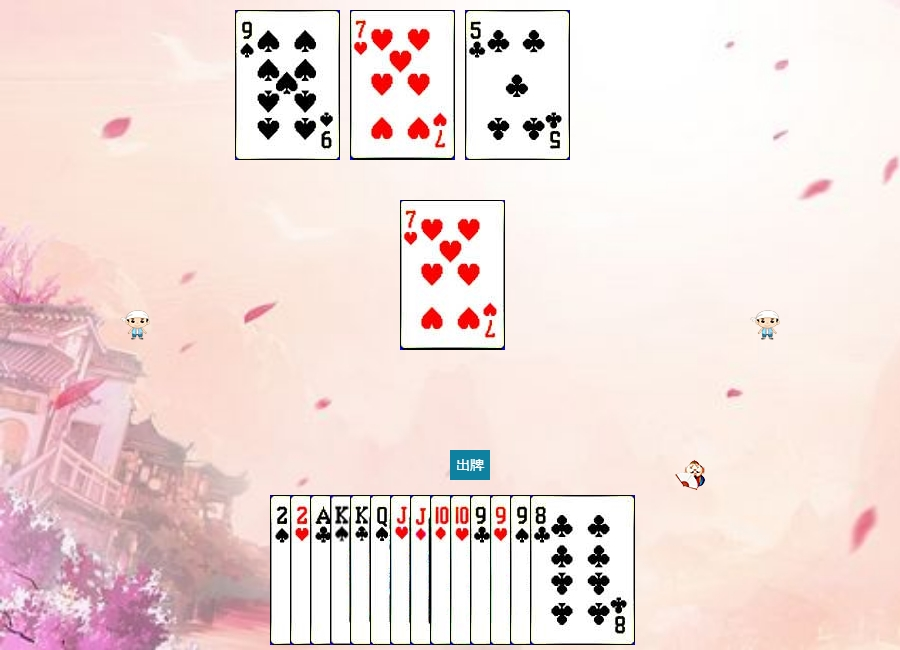10~1: (430, 495, 535, 645)
10~3: (450, 495, 555, 645)
11~1: (410, 495, 515, 645)
11~3: (390, 495, 495, 645)
12~4: (370, 495, 475, 645)
13~2: (350, 495, 455, 645)
13~4: (330, 495, 435, 645)
14~2: (310, 495, 415, 645)
15~3: (290, 495, 395, 645)
15~4: (270, 495, 375, 645)
5~2: (465, 10, 570, 160)
7~3: (350, 10, 455, 160), (400, 200, 505, 350)
8~2: (530, 495, 635, 645)
9~2: (470, 495, 575, 645)
9~3: (490, 495, 595, 645)
9~4: (235, 10, 340, 160), (510, 495, 615, 645)
